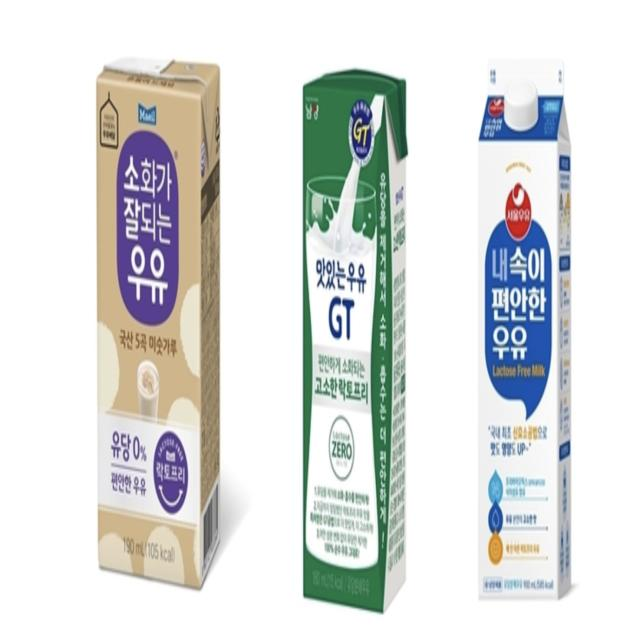biodegradable: (76, 10, 250, 614), (457, 22, 592, 626), (289, 35, 415, 629)
